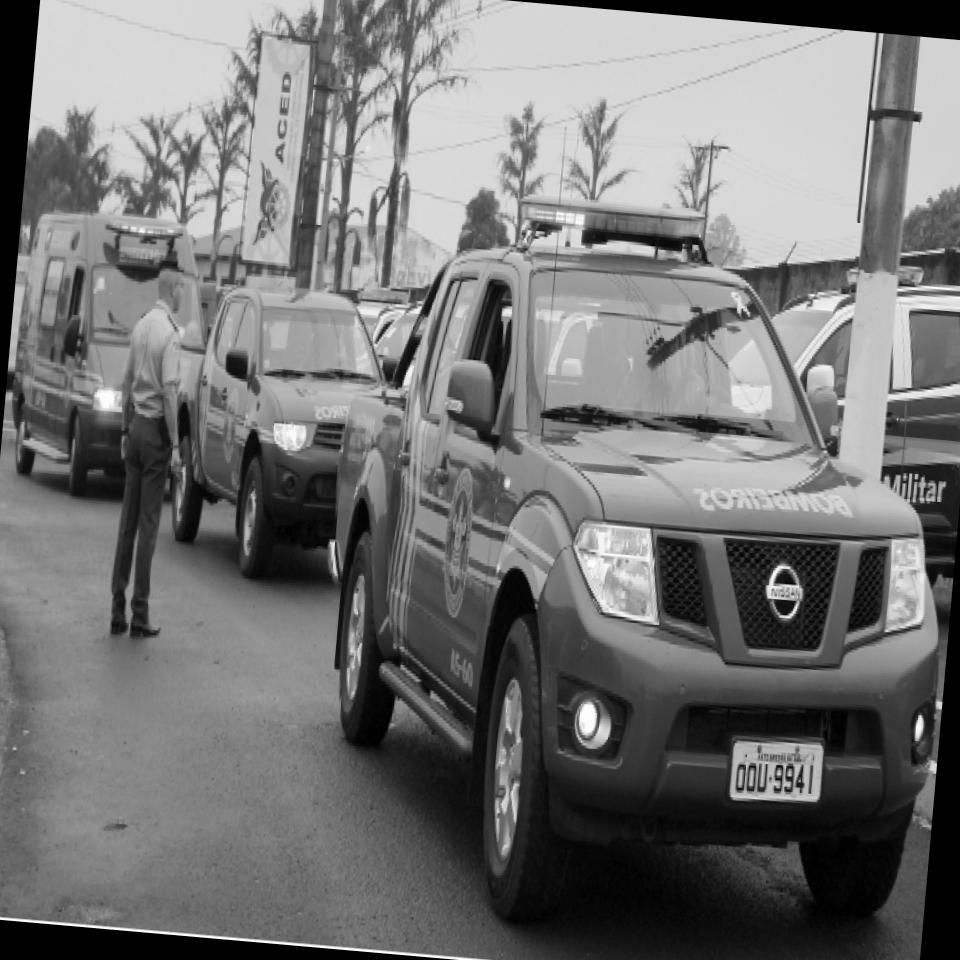viatura: (295, 175, 960, 960), (154, 263, 412, 599), (5, 202, 217, 508)
